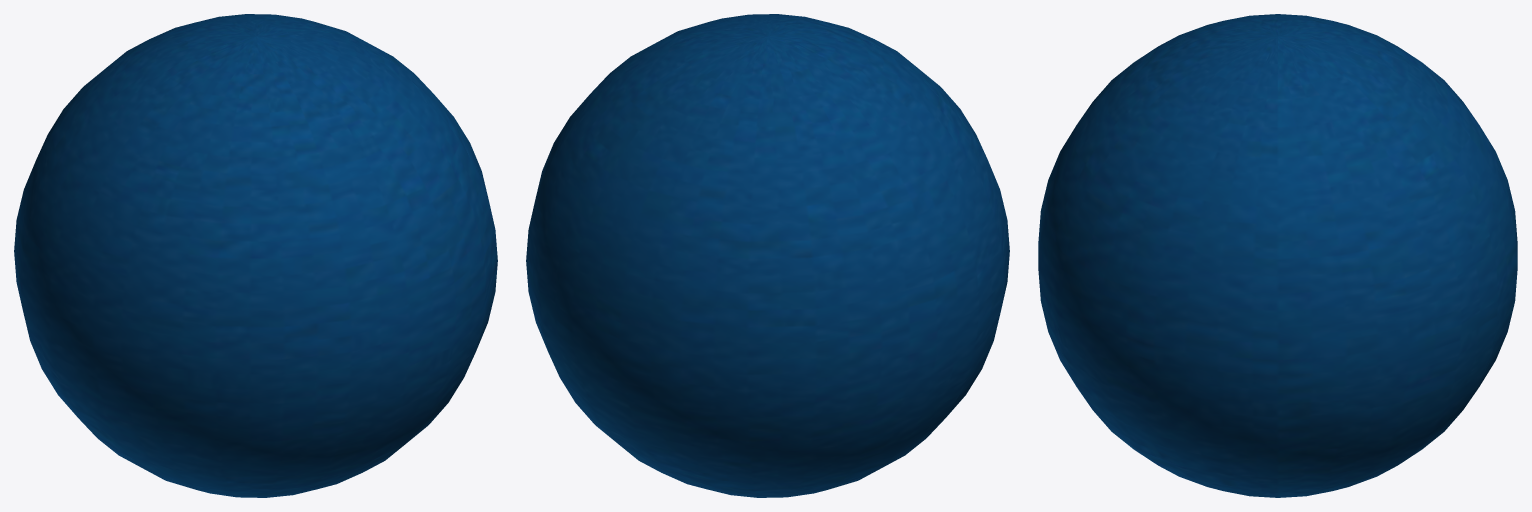
File: waterWorld.obj
The picture shows the model from 3 angles, left to right: view 1: azimuth 30°, elevation 25°; view 2: azimuth 150°, elevation 25°; view 3: azimuth 270°, elevation 25°; orthographic projection.
Parts seen in each view (by area): view 1: WaterWorld; view 2: WaterWorld; view 3: WaterWorld.
Part boxes in pixels (x1,y1,x2,y2): WaterWorld: (14,14,497,497); WaterWorld: (526,14,1009,497); WaterWorld: (1038,14,1517,497).
Bounding box in the file's own units: 2 × 2 × 1.98.
1 material, 1 textured.
